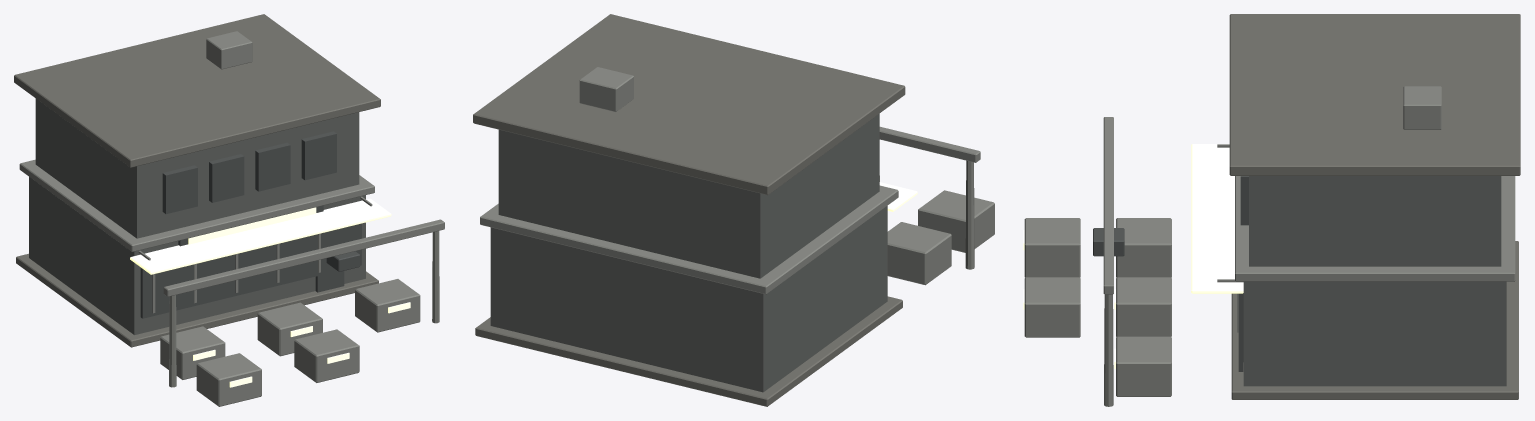
File: shop_parts.glb
3 views of the same model, side by side, from view 1: azimuth 30°, elevation 25°; view 2: azimuth 150°, elevation 25°; view 3: azimuth 270°, elevation 25° (orthographic). The views are drawn at different scales.
Visible parts, largest first — view 1: shop_parts_Concrete@utility, shop_parts_Graphite@utility, shop_parts_Steel@utility, shop_parts_DarkAlloy@utility, shop_parts_Amber; view 2: shop_parts_Graphite@utility, shop_parts_Concrete@utility, shop_parts_Steel@utility; view 3: shop_parts_Concrete@utility, shop_parts_Graphite@utility, shop_parts_Steel@utility, shop_parts_Amber, shop_parts_DarkAlloy@utility.
Boxes of the visible parts, x1,y1,x2,y2 form: shop_parts_Concrete@utility: [14, 14, 380, 347]; shop_parts_Graphite@utility: [29, 98, 365, 335]; shop_parts_Steel@utility: [19, 31, 444, 406]; shop_parts_DarkAlloy@utility: [140, 131, 361, 318]; shop_parts_Amber: [130, 198, 410, 387]; shop_parts_Graphite@utility: [490, 113, 887, 392]; shop_parts_Concrete@utility: [473, 14, 905, 406]; shop_parts_Steel@utility: [480, 67, 994, 294]; shop_parts_Concrete@utility: [1229, 14, 1520, 399]; shop_parts_Graphite@utility: [1243, 176, 1506, 386]; shop_parts_Steel@utility: [1024, 86, 1515, 406]; shop_parts_Amber: [1023, 144, 1243, 368]; shop_parts_DarkAlloy@utility: [1093, 176, 1248, 371].
Bounding box in the file's own units: 11.4 × 8.2 × 14.19.
